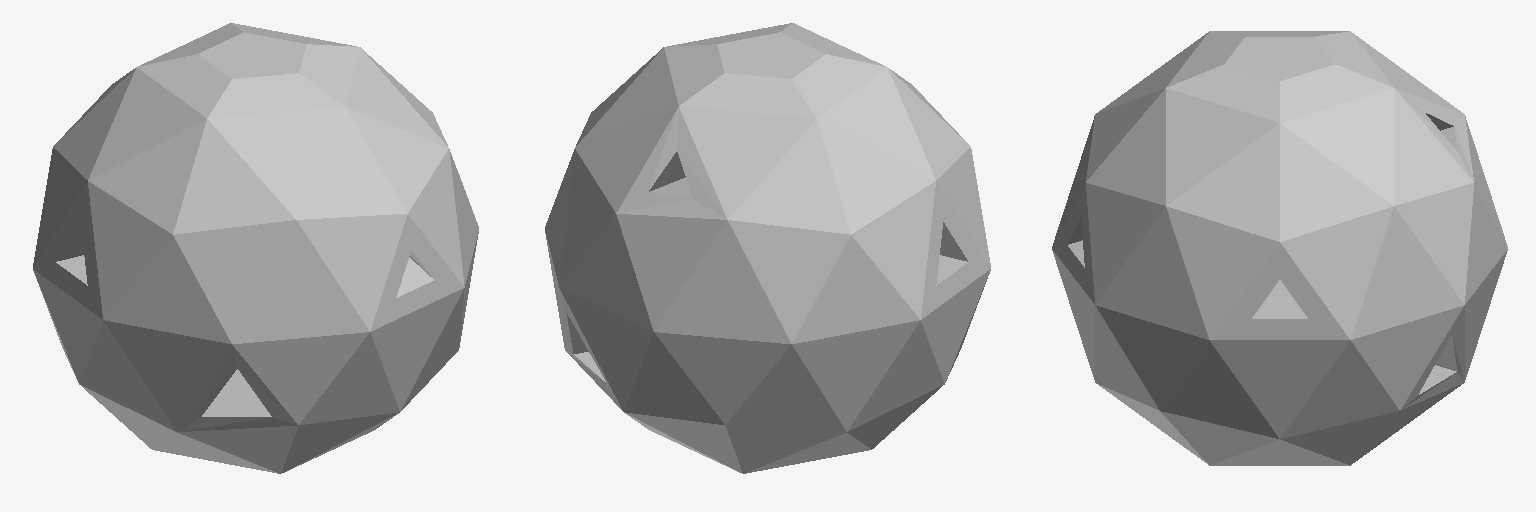
Rendered from IcosphereBig.obj.
3 renders of one model, left to right at view 1: azimuth 30°, elevation 25°; view 2: azimuth 150°, elevation 25°; view 3: azimuth 270°, elevation 25°, orthographic.
Parts seen in each view (by area): view 1: Icosphere; view 2: Icosphere; view 3: Icosphere.
Boxes of the visible parts, box(x1,y1,x2,y2) form: Icosphere: box(33, 23, 478, 473); Icosphere: box(545, 23, 990, 473); Icosphere: box(1052, 31, 1507, 465).
Bounding box in the file's own units: 1.9 × 1.93 × 2.